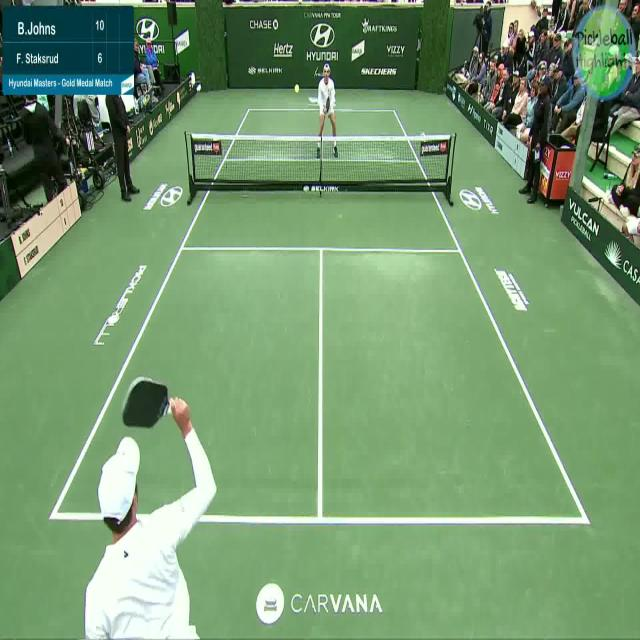Court: (50, 109, 586, 525)
ball: (289, 77, 300, 91)
